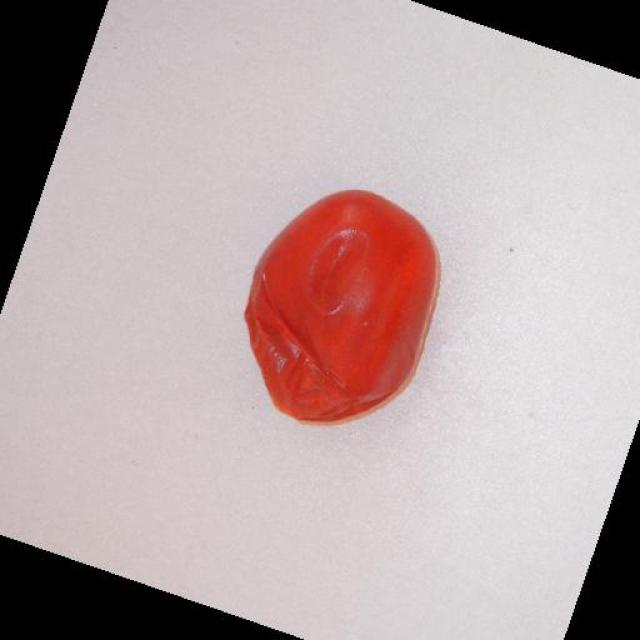Stale_tomato: (236, 179, 457, 462)
